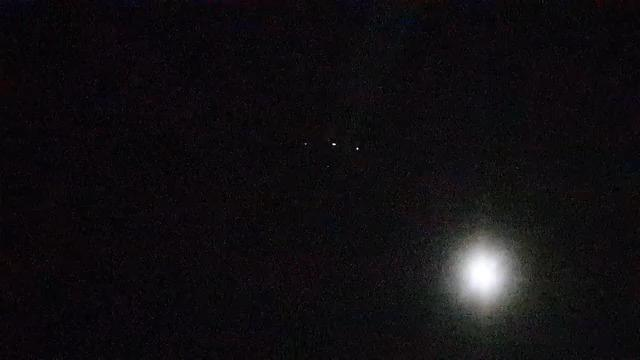Plane: (288, 131, 391, 163)
